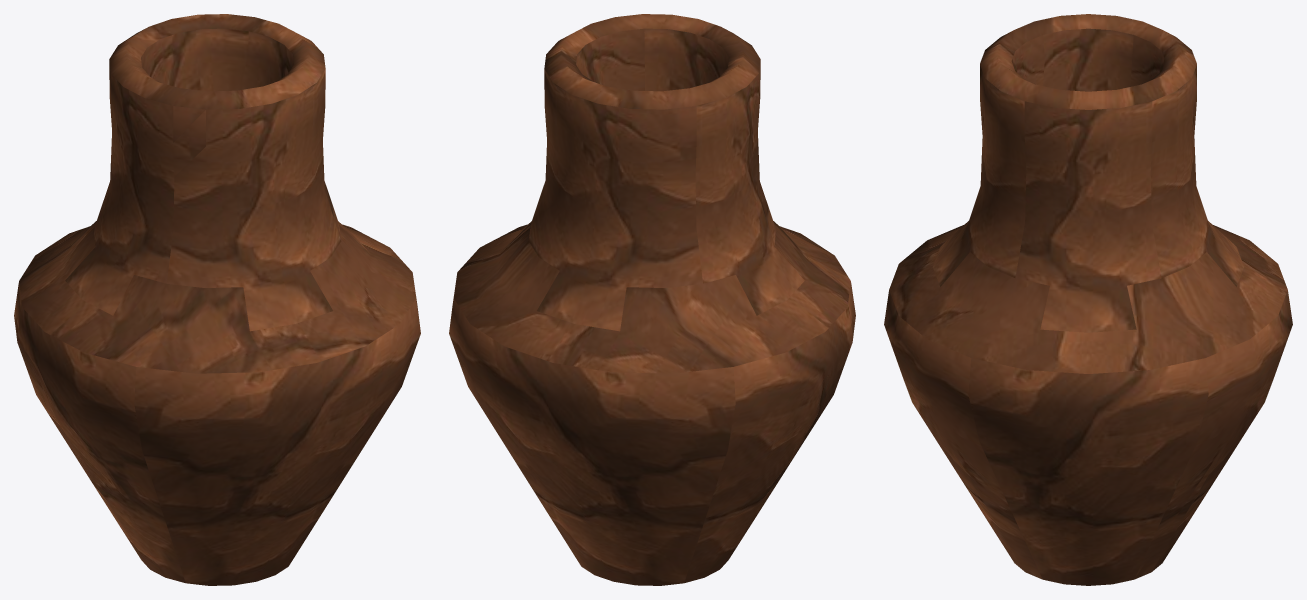
Rendered from furn_vase_tall.glb.
The picture shows the model from 3 angles, left to right: view 1: azimuth 30°, elevation 25°; view 2: azimuth 150°, elevation 25°; view 3: azimuth 270°, elevation 25°; orthographic projection.
Visible parts, largest first — view 1: model; view 2: model; view 3: model.
Boxes of the visible parts, left/top/right/bottom form: model: left=14, top=14, right=420, bottom=585; model: left=449, top=14, right=855, bottom=585; model: left=884, top=14, right=1292, bottom=585.
Bounding box in the file's own units: 0.4316 × 0.5825 × 0.4316.
1 material, 1 textured.
